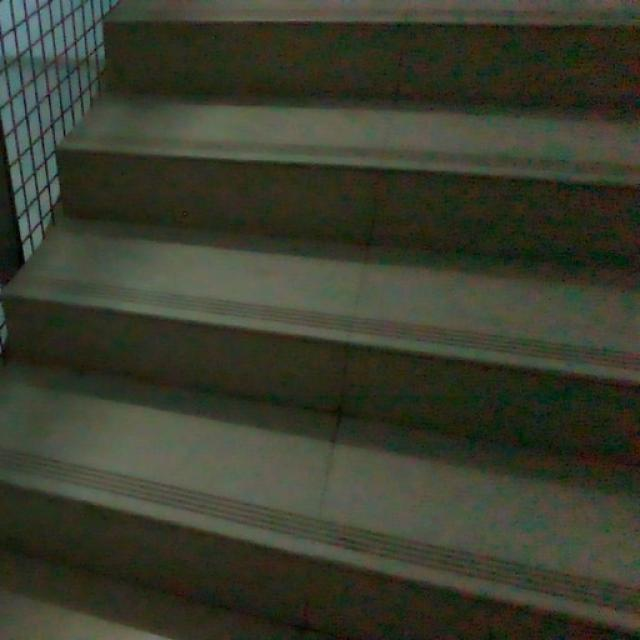stair: (21, 0, 640, 608)
